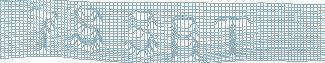7: (28, 5, 59, 56)
B: (170, 15, 201, 63)
S: (123, 9, 158, 58), (69, 5, 105, 52)
T: (214, 16, 253, 59)
